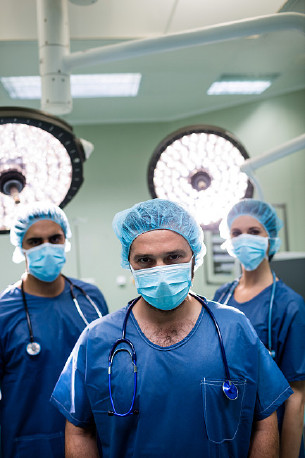face_mask: (131, 225, 190, 308), (24, 218, 63, 282), (230, 212, 265, 269)
